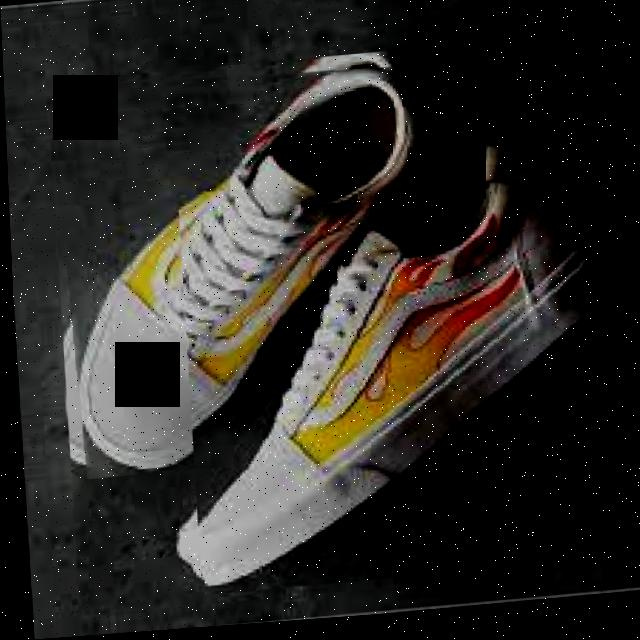shoe: (46, 40, 624, 612), (175, 163, 611, 598), (47, 59, 438, 481)
